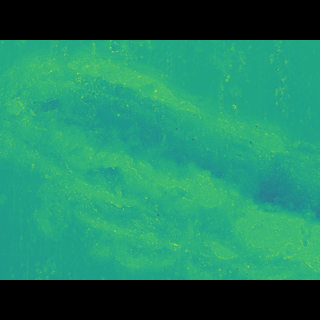Loch: (0, 78, 320, 251)
